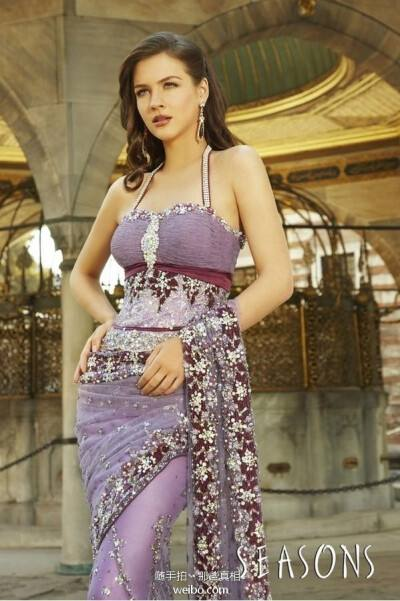person: (78, 45, 266, 515)
